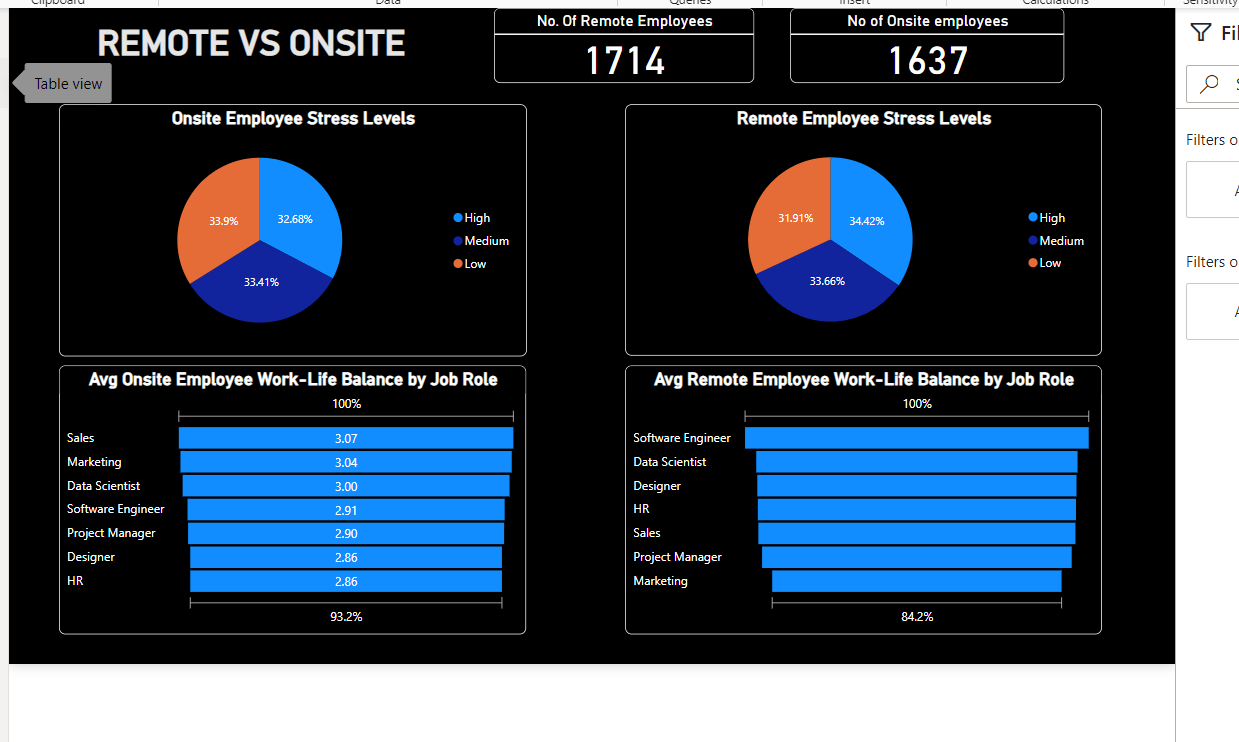

Layout of this report page (visuals, bound fields, positions):
{"tool":"powerbi","page":{"name":"Page 1","canvas":[1280,720],"ordinal":0},"visuals":[{"type":"textbox","box":[9.6,11,522.8,61.7],"z":0},{"type":"pieChart","title":" Onsite Employee Stress Levels","fields":{"Y":["Sum(stress levels (2).pct_onsite_h)","Sum(stress levels (2).pct_onsite_m)","Sum(stress levels (2).pct_onsite_l)"]},"box":[54.9,105.7,513.2,277.2],"z":1000},{"type":"pieChart","title":"Remote Employee Stress Levels","fields":{"Y":["Sum(stress levels (2).pct_remote_h)","Sum(stress levels (2).pct_remote_m)","Sum(stress levels (2).pct_remote_l)"]},"box":[676.5,105.7,522.8,275.8],"z":2000},{"type":"funnel","title":" Avg Onsite Employee Work-Life Balance by Job Role","fields":{"Category":["work_life_balance_onsite.Job_Role"],"Y":["Avg(work_life_balance_onsite.avg_Work_Life_Balance_Rating)"]},"box":[55,393,513,295],"z":3000},{"type":"funnel","title":"Avg Remote Employee Work-Life Balance by Job Role","fields":{"Category":["work_life_balance_remote.Job_Role"],"Y":["Avg(work_life_balance_remote.avg_Work_Life_Balance_Rating)"]},"box":[677,393,523,295],"z":4000},{"type":"card","title":"No. Of Remote Employees","fields":{"Values":["Sum(work_life_balance.no_of_employees)"]},"box":[532.4,0,285.4,82.3],"z":5000},{"type":"card","title":"No of Onsite employees","fields":{"Values":["Sum(work_life_balance.no_of_employees)"]},"box":[857.6,0,300.5,82.3],"z":6000}]}

Visuals, with their boxes in screenshot pixels (x1, y1, x2, y2):
textbox: bbox=[0, 14, 463, 73]
" Onsite Employee Stress Levels" pieChart: bbox=[7, 104, 497, 369]
"Remote Employee Stress Levels" pieChart: bbox=[601, 104, 1100, 367]
" Avg Onsite Employee Work-Life Balance by Job Role" funnel: bbox=[7, 378, 497, 660]
"Avg Remote Employee Work-Life Balance by Job Role" funnel: bbox=[601, 378, 1100, 660]
"No. Of Remote Employees" card: bbox=[463, 3, 735, 82]
"No of Onsite employees" card: bbox=[773, 3, 1060, 82]
